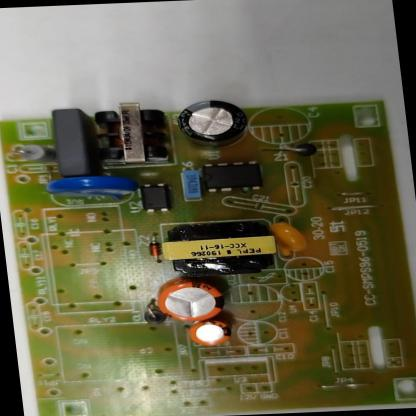Cap1: (154, 276, 224, 322)
Cap2: (188, 320, 230, 346)
Cap3: (176, 98, 246, 150)
MOSFET: (200, 161, 261, 192)
Mov: (43, 174, 137, 204)
Resistor: (12, 142, 57, 165)
Transformer: (160, 218, 280, 278), (91, 98, 171, 167)
